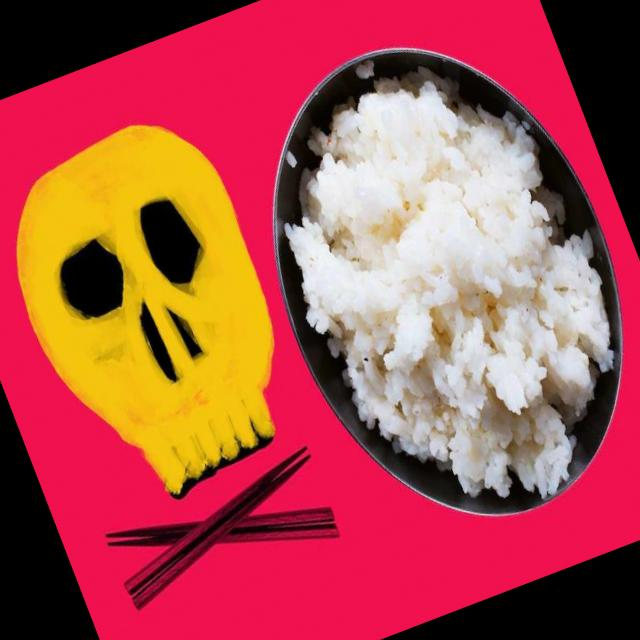rice: (297, 92, 599, 475)
